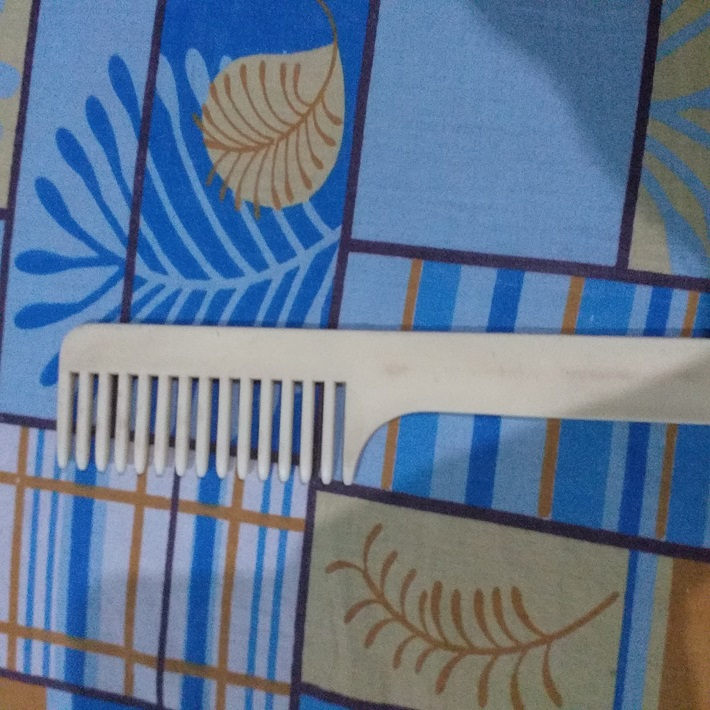comb: (51, 317, 710, 492)
